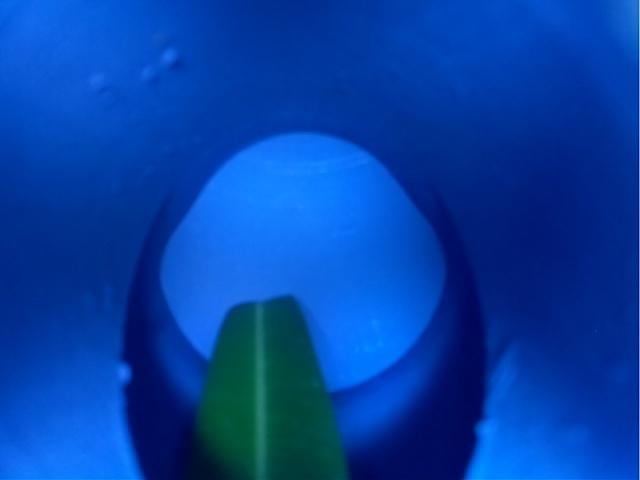feuille: (181, 288, 349, 480)
